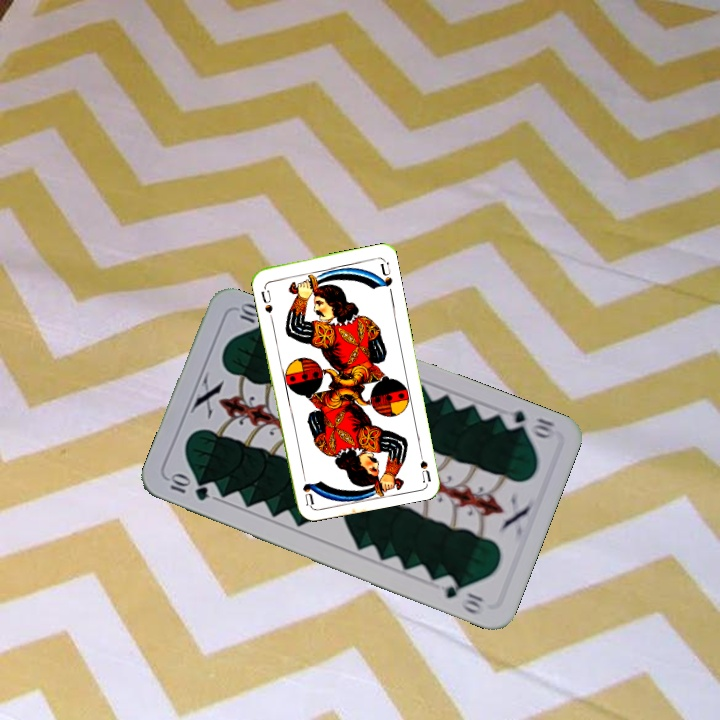G10: (498, 406, 558, 442), (164, 471, 213, 504)
SU: (415, 443, 433, 484), (257, 281, 275, 315)
